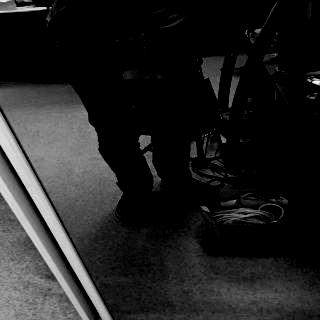kettlebell: (110, 78, 187, 133)
